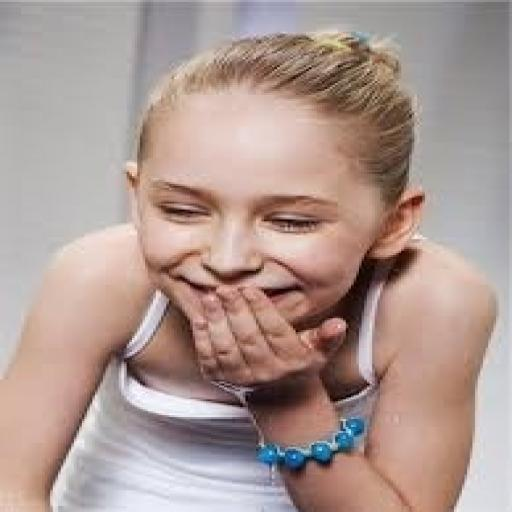laughing: (0, 23, 501, 510)
